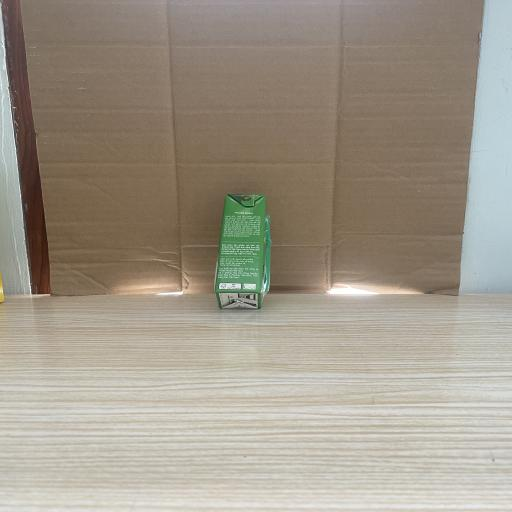milo: (215, 194, 271, 310)
